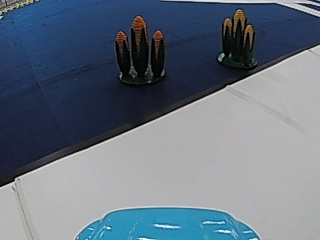corn: (113, 14, 168, 86), (216, 5, 259, 69)
